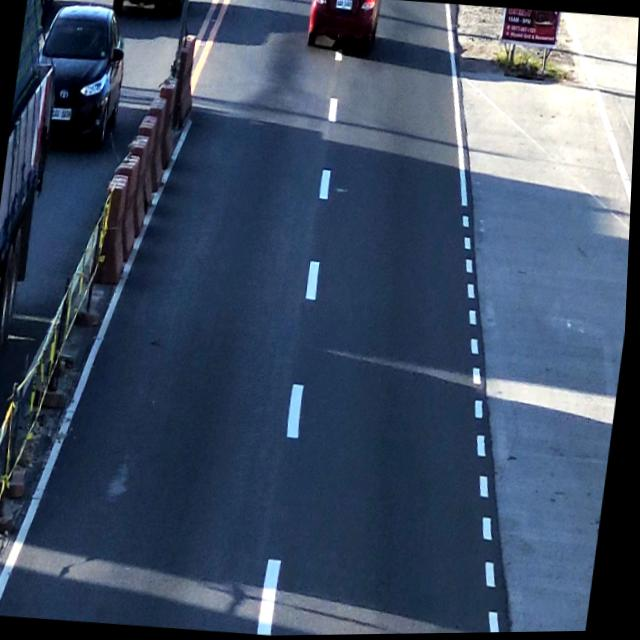Car: (303, 0, 384, 52)
